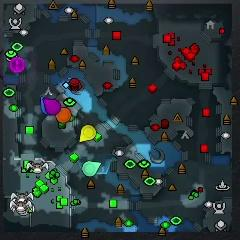Other: (10, 57, 25, 73)
p1: (41, 96, 48, 115)
p2: (83, 161, 100, 176)
p3: (44, 97, 61, 116)
p4: (80, 125, 96, 142)
p5: (56, 106, 71, 124)
